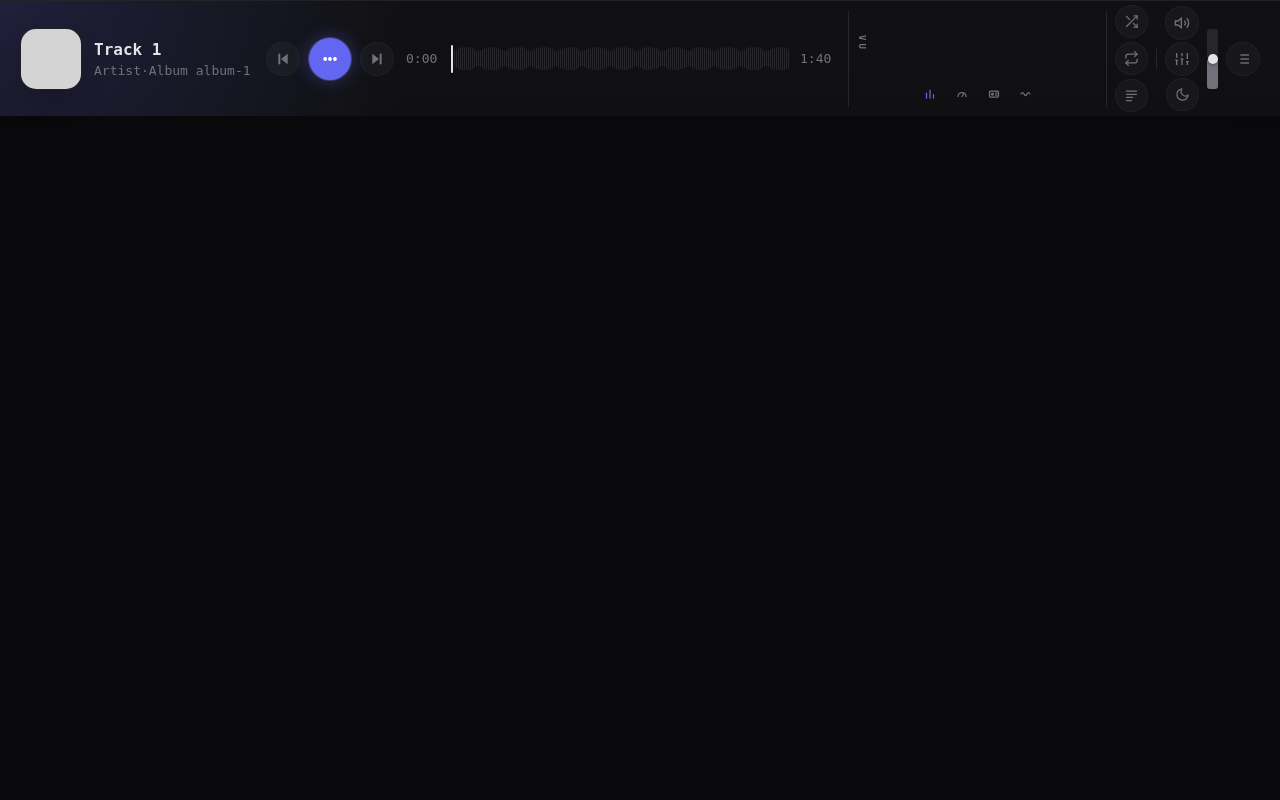
Test: Player sleep timer › fades out and pauses at the deadline, then restores the volume
Click the button named "Sleep timer": {"x": 1182, "y": 94} [1166,78,1198,111]
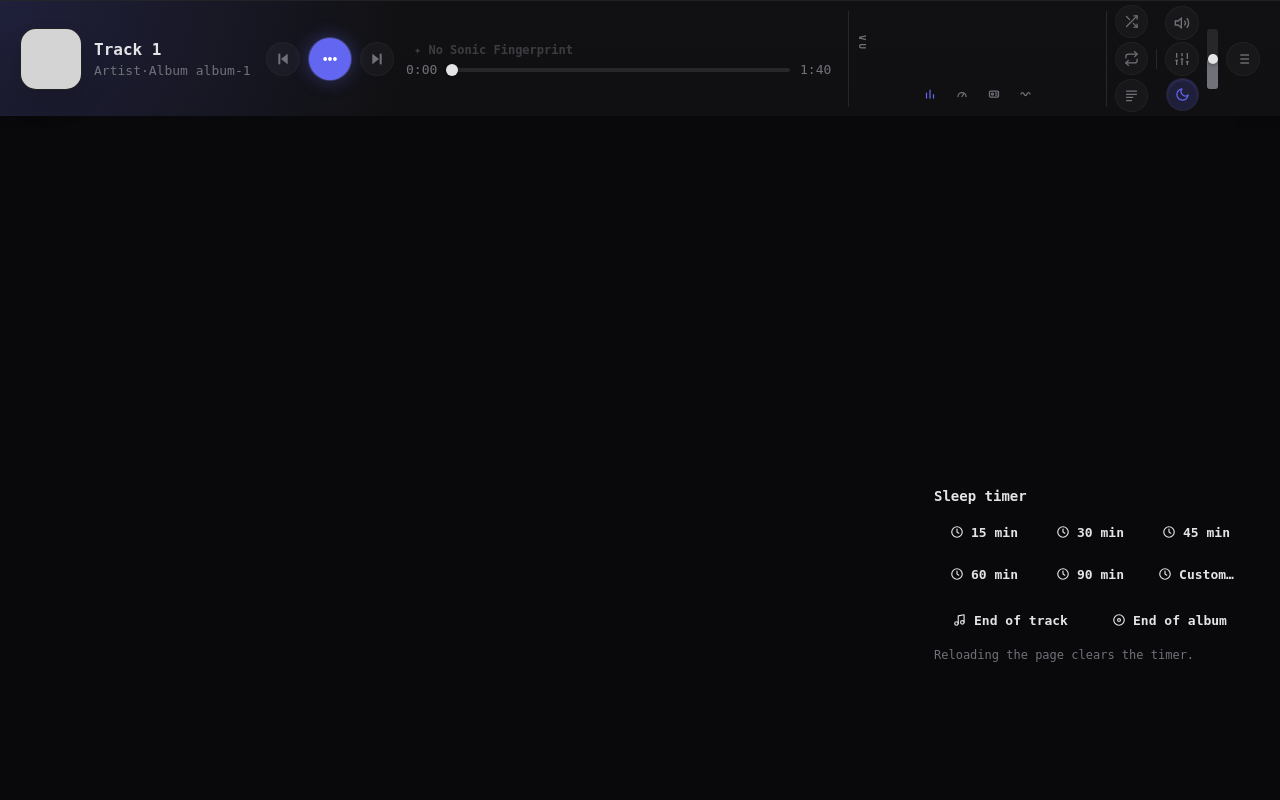
Click the button "15 min": {"x": 984, "y": 532} [934,514,1034,550]
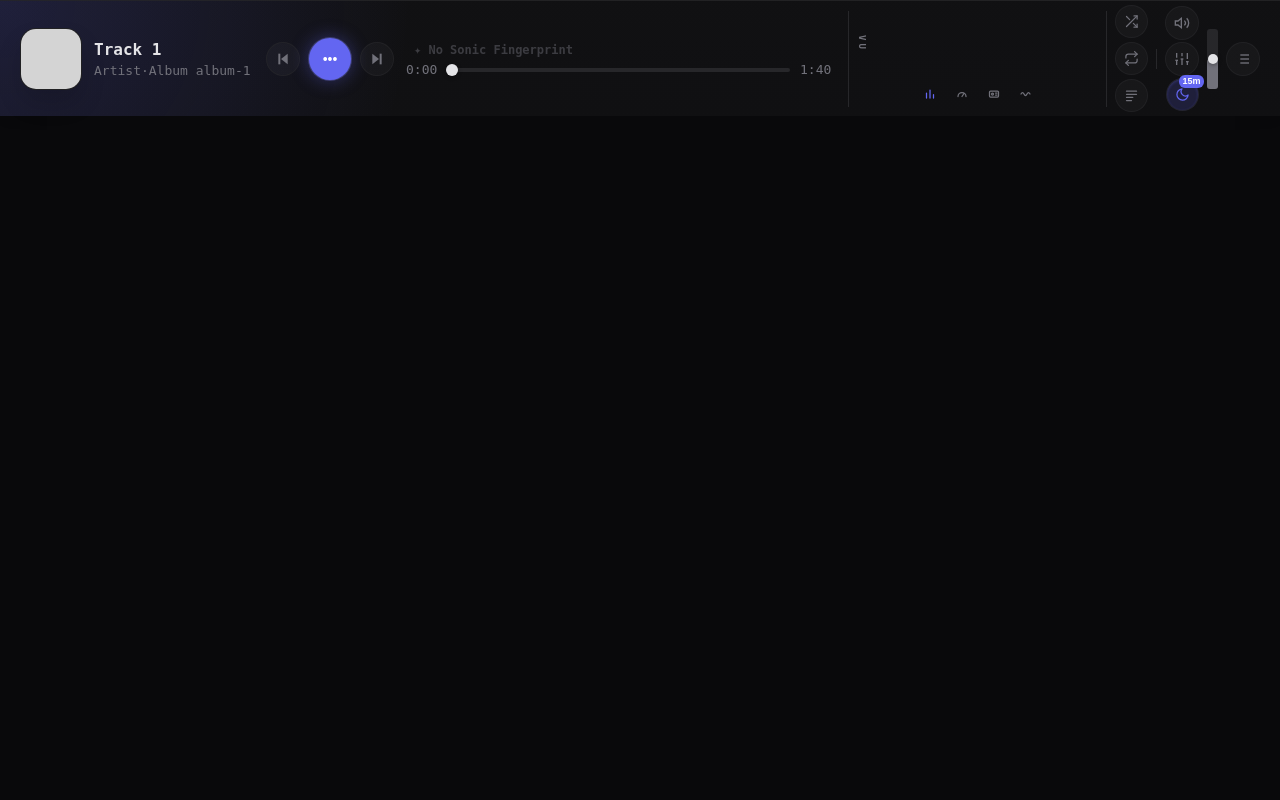
Result: the button named "Sleep timer: 15:00 left" reads "15m" at [1166,78,1198,111]
